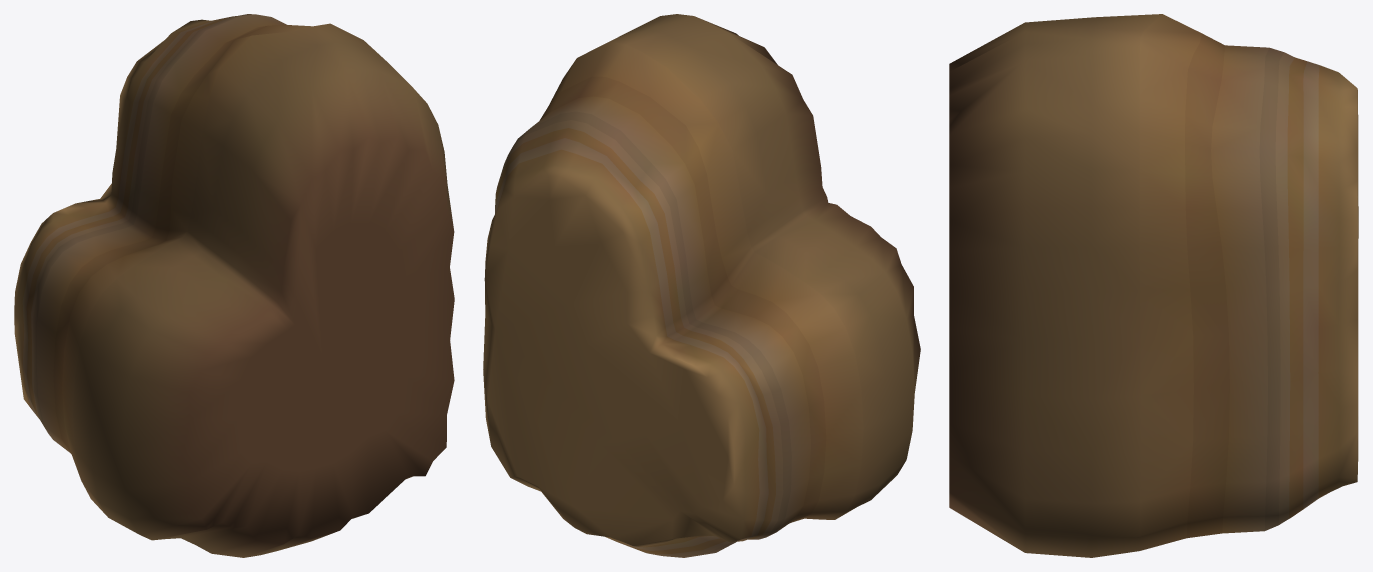
The model's file is SandStoneMesaMedium.002.glb.
The picture shows the model from 3 angles, left to right: view 1: azimuth 30°, elevation 25°; view 2: azimuth 150°, elevation 25°; view 3: azimuth 270°, elevation 25°; orthographic projection. The views are drawn at different scales.
Parts seen in each view (by area): view 1: SandStoneMesaMedium.002; view 2: SandStoneMesaMedium.002; view 3: SandStoneMesaMedium.002.
Part boxes in pixels (<box>): SandStoneMesaMedium.002: <box>14,14,454,557</box>; SandStoneMesaMedium.002: <box>483,14,920,557</box>; SandStoneMesaMedium.002: <box>949,14,1358,557</box>.
Bounding box in the file's own units: 3247 × 4395 × 2991.
